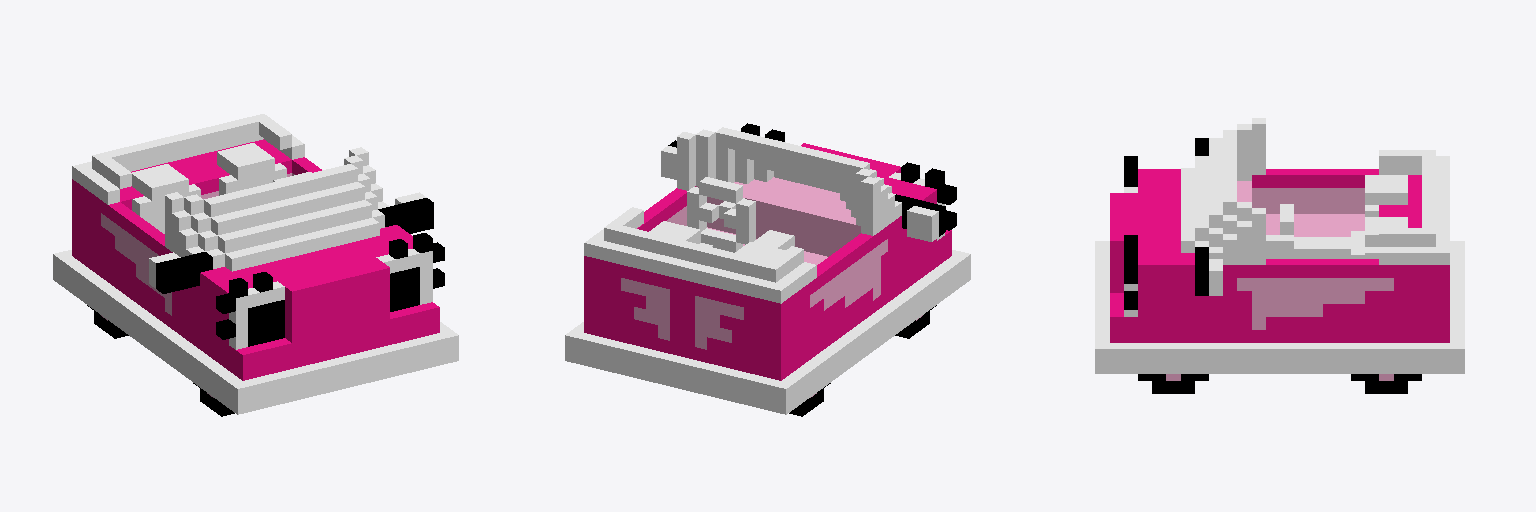
3 renders of one model, left to right at view 1: azimuth 30°, elevation 25°; view 2: azimuth 150°, elevation 25°; view 3: azimuth 270°, elevation 25°, orthographic.
Parts seen in each view (by area): view 1: girlcar; view 2: girlcar; view 3: girlcar.
Part boxes in pixels (bbox=[...]): girlcar: bbox=[53, 114, 458, 416]; girlcar: bbox=[565, 123, 970, 416]; girlcar: bbox=[1095, 118, 1464, 393].
Size of the model in its own units: 22 by 14 by 26.
1 materials, 1 textured.